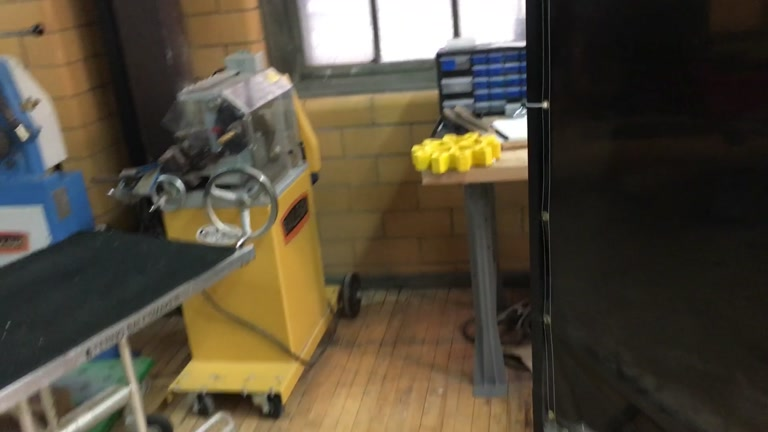gear: (409, 131, 502, 174)
